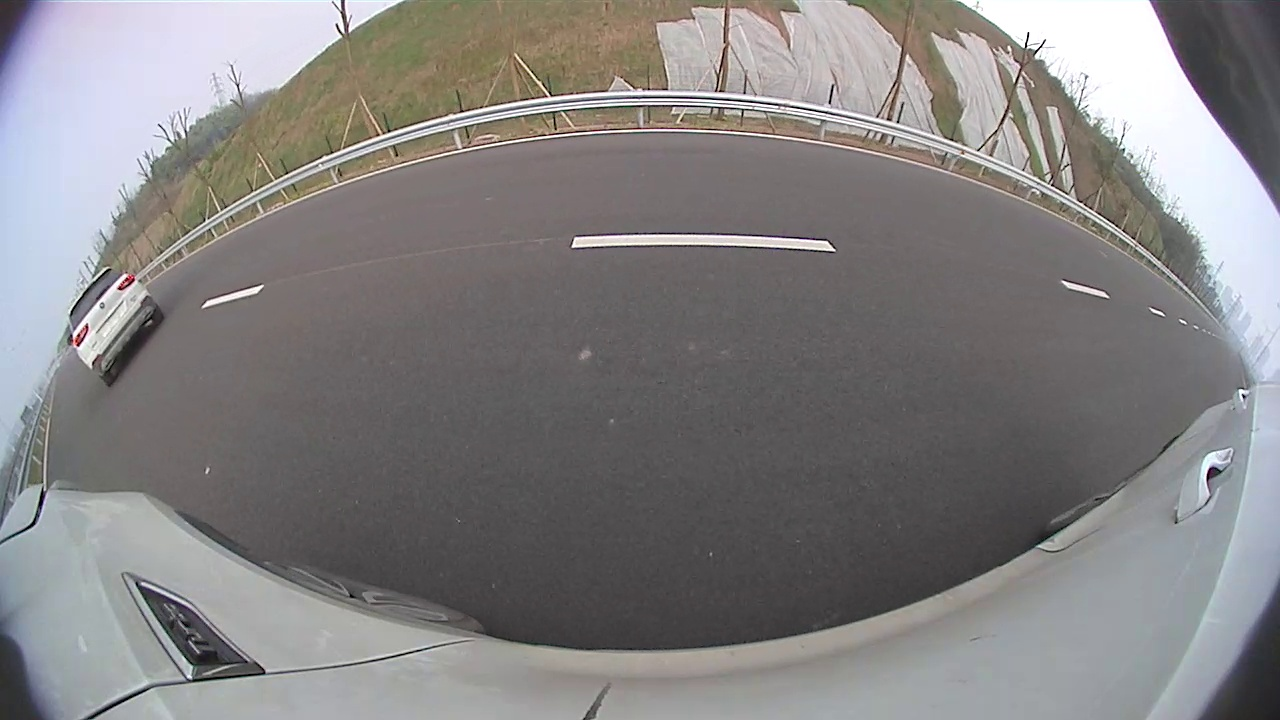car: (65, 267, 164, 387)
